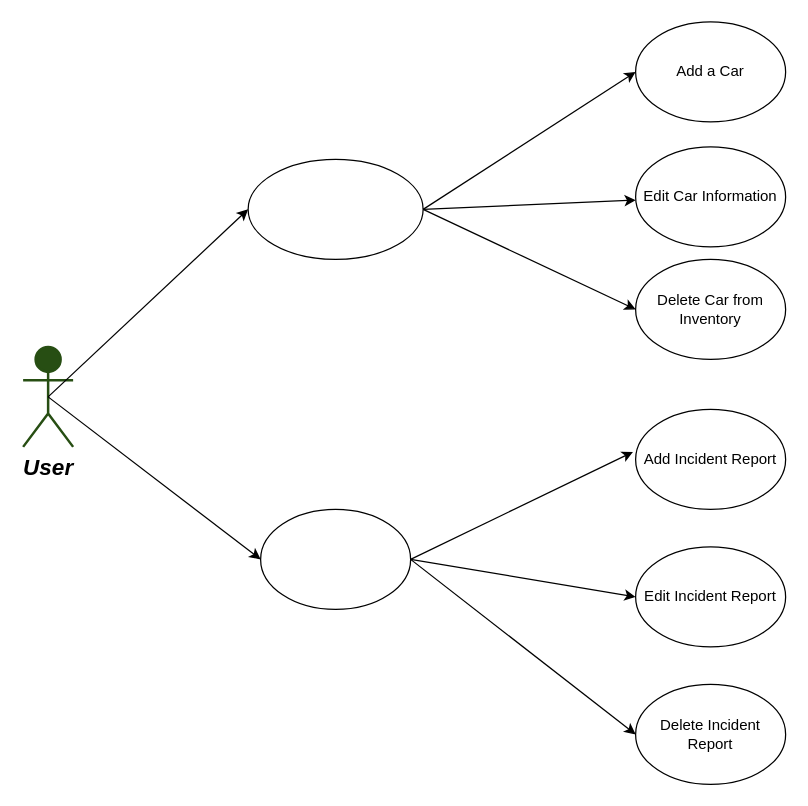
This 808x806 diagram has some shape labels left out. Here are the shapes that lost their labels. From the top down, the centre of each, then its label:
At point (335, 208): "View Car listing".
At point (335, 558): "Incident Report Management".
